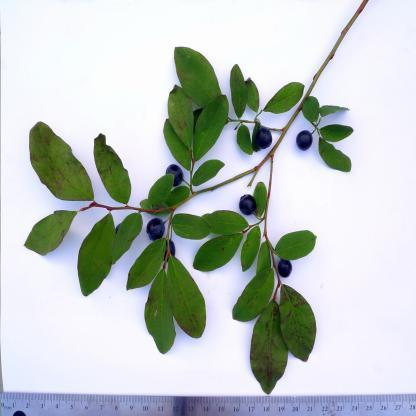Blueberry leaf: (148, 254, 216, 370), (172, 204, 254, 280), (26, 118, 95, 204), (170, 36, 224, 112), (154, 85, 200, 168), (78, 212, 119, 300), (90, 130, 136, 203), (192, 85, 231, 170), (22, 202, 79, 258), (120, 234, 169, 294), (314, 124, 362, 183), (265, 220, 322, 266), (230, 266, 275, 324), (107, 210, 150, 268), (263, 78, 308, 117), (228, 58, 252, 118), (236, 123, 255, 164)
